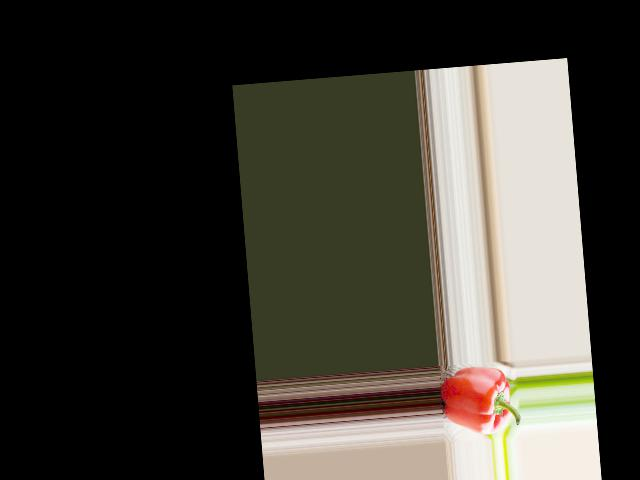bell_pepper: (438, 365, 520, 439)
